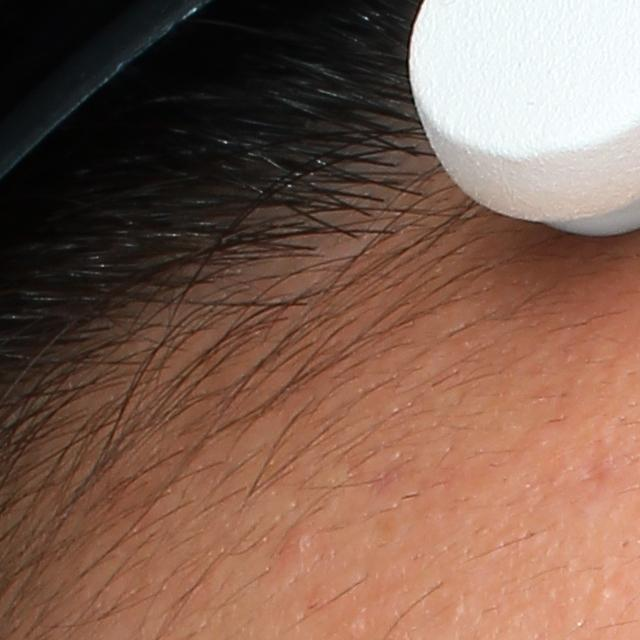comedo: (596, 583, 616, 602)
papule: (269, 514, 327, 566)
